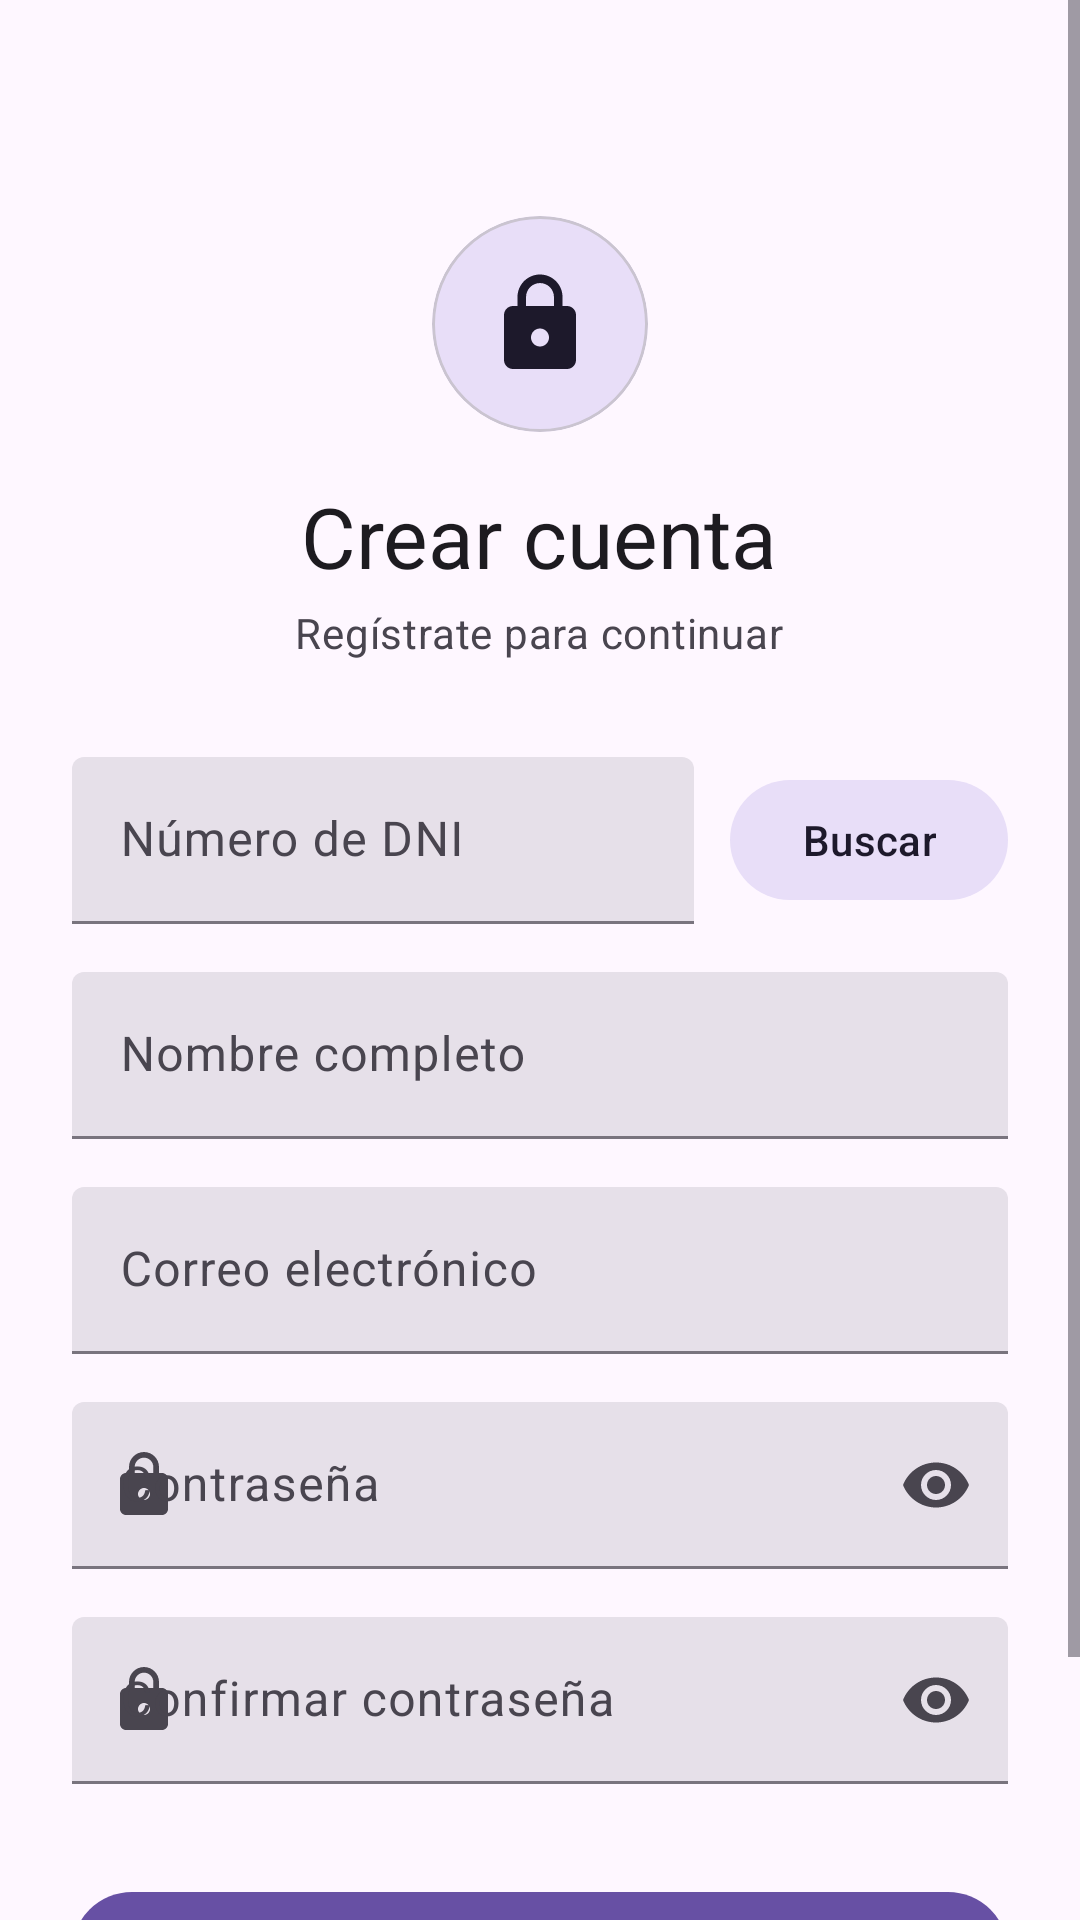

Icons on this 1080px x 1920px Android screen, each with its box as {"left": x1, "top": y1, "right": x2, "bottom": y2}:
lock: {"left": 504, "top": 274, "right": 576, "bottom": 369}
